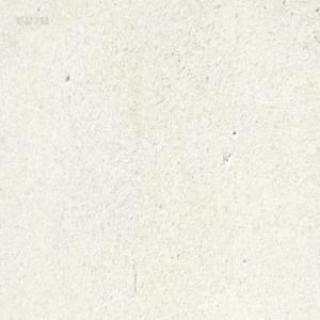Wrenchtrack_idkeyframe: (129, 0, 136, 4)
